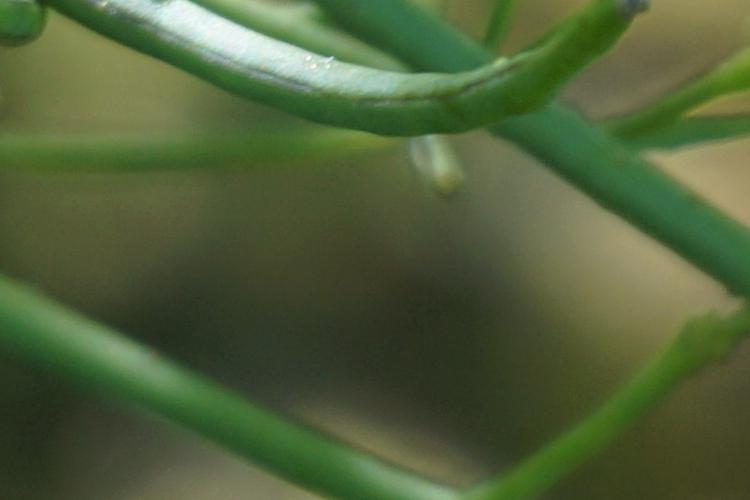pod: (320, 1, 694, 139)
